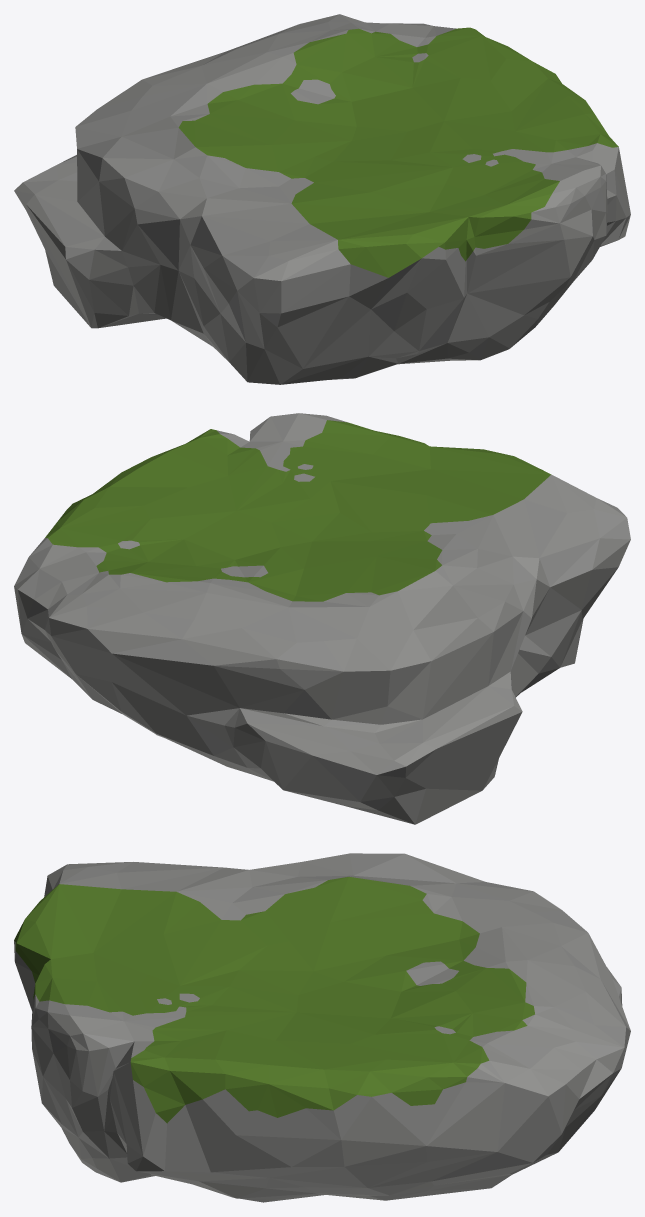
The model's file is Cavern_FloorGrass_Wide_Corner-01.fbx.
3 renders of one model, top to bottom at view 1: azimuth 30°, elevation 25°; view 2: azimuth 150°, elevation 25°; view 3: azimuth 270°, elevation 25°, orthographic. The views are drawn at different scales.
Parts seen in each view (by area): view 1: Cavern_FloorGrass_Wide_Corner-01; view 2: Cavern_FloorGrass_Wide_Corner-01; view 3: Cavern_FloorGrass_Wide_Corner-01.
Boxes of the visible parts, x1=… form: Cavern_FloorGrass_Wide_Corner-01: x1=14, y1=14, x2=630, y2=384; Cavern_FloorGrass_Wide_Corner-01: x1=14, y1=413, x2=630, y2=824; Cavern_FloorGrass_Wide_Corner-01: x1=14, y1=853, x2=630, y2=1202.
Size of the model in its own units: 1705 by 637 by 1706.
1 material, 1 textured.
